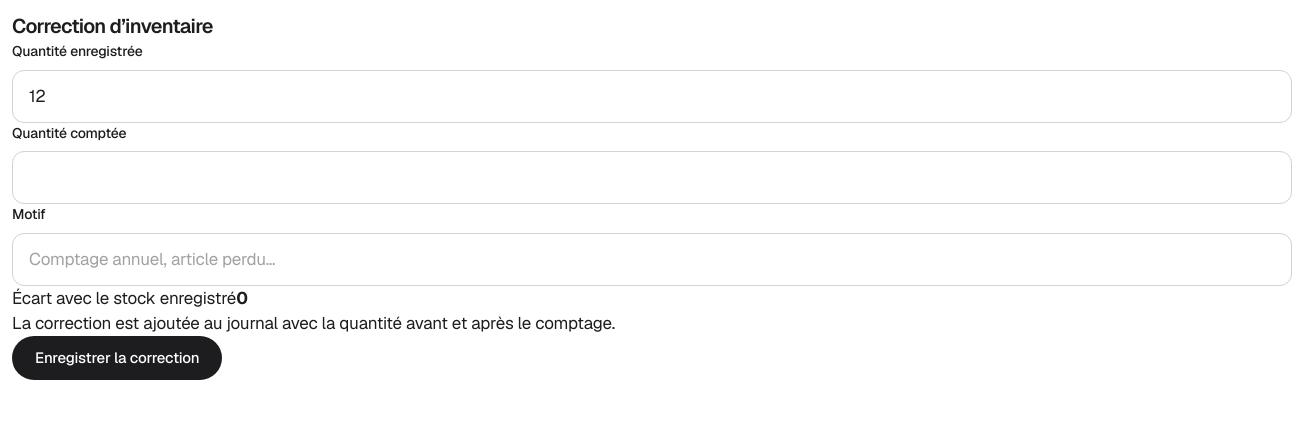
Test: FormulaireInventaire › envoie la quantité comptée et le motif puis transmet le nouvel état
Type "10" into the number field labelled "Quantité comptée" at (652, 178), box x1=12 y1=151 x2=1292 y2=204
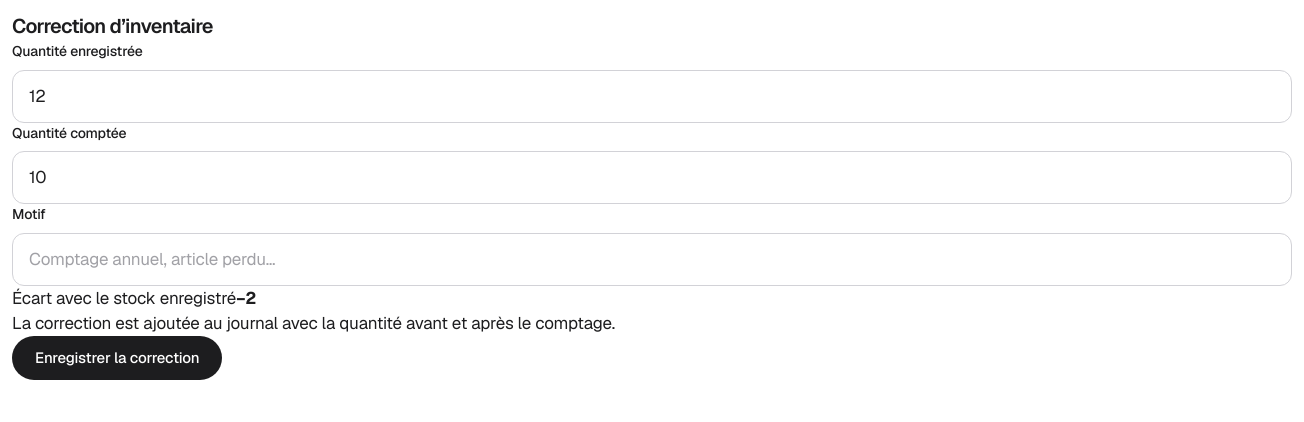
Type "  Comptage annuel " into the field labelled "Motif" at (652, 259), box x1=12 y1=233 x2=1292 y2=286
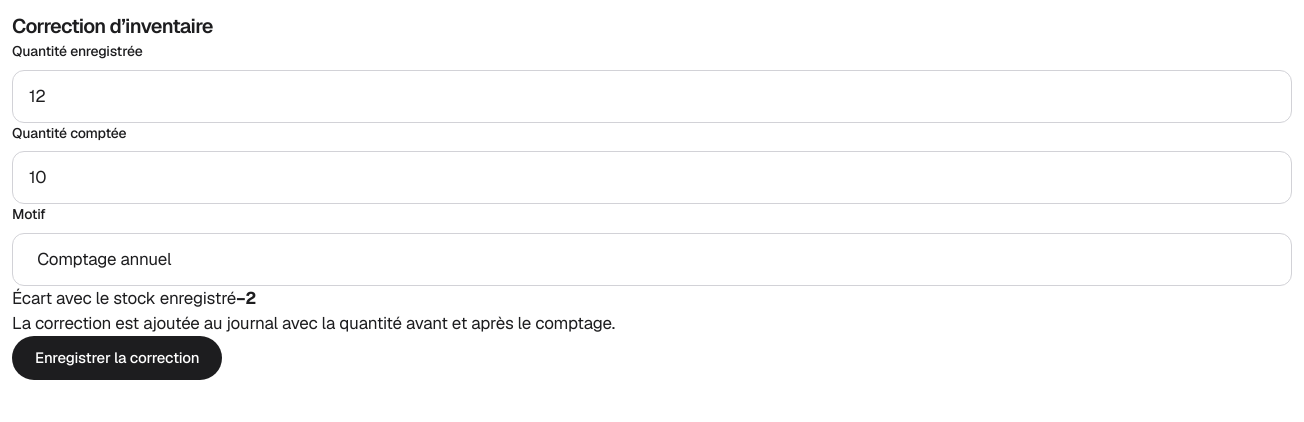
Click the button "Enregistrer la correction" at (117, 358), box x1=12 y1=336 x2=222 y2=380
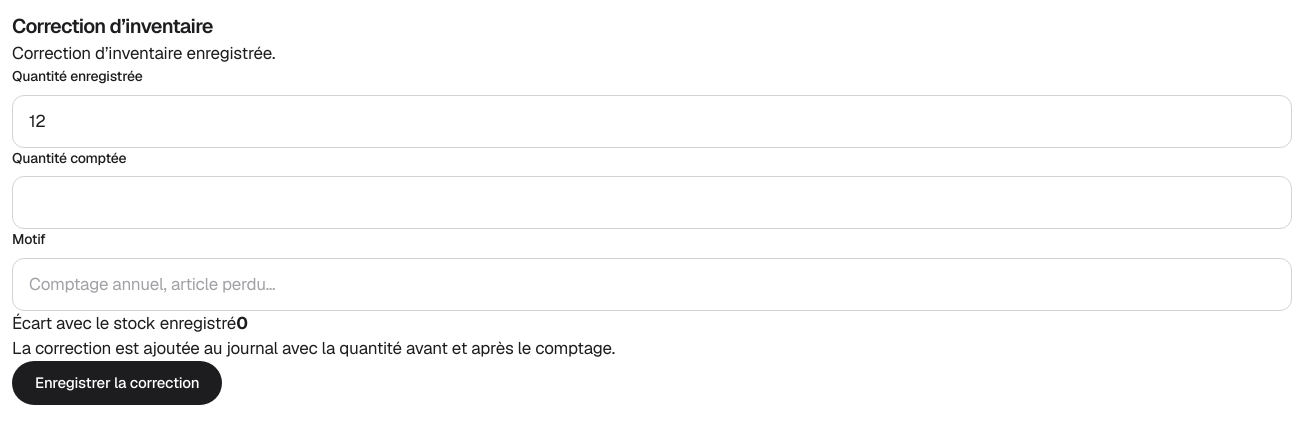
expect the message reads "Correction d’inventaire enregistrée.": met, box x1=12 y1=42 x2=275 y2=64
expect the number field labelled "Quantité comptée" is not empty: met, box x1=12 y1=176 x2=1292 y2=229
